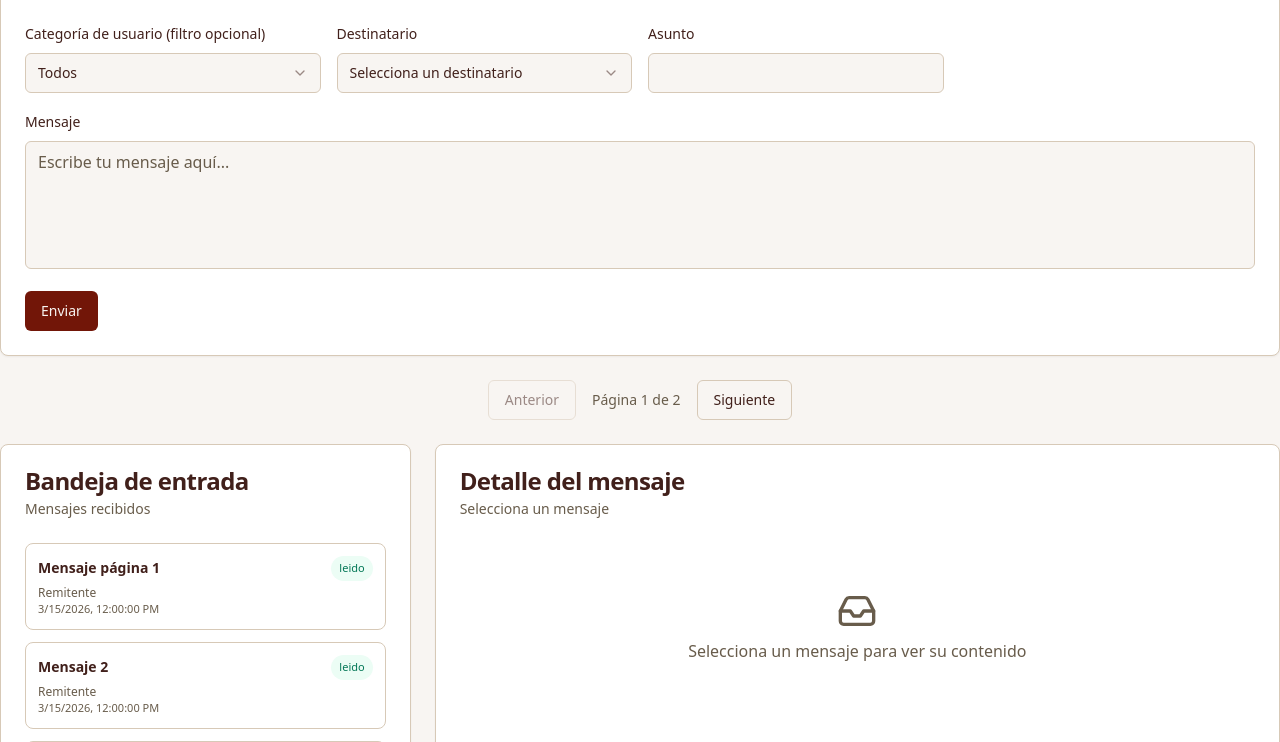
MensajesPage list controls › uses server-side page ranges and disables navigation at both boundaries
(page scrolled)
Check: the text "Mensaje página 1" is shown, box [38,558,160,578]
Check: the button "Anterior" is disabled, box [488,380,576,420]
Click the button "Siguiente": (744, 400) [696,380,792,420]
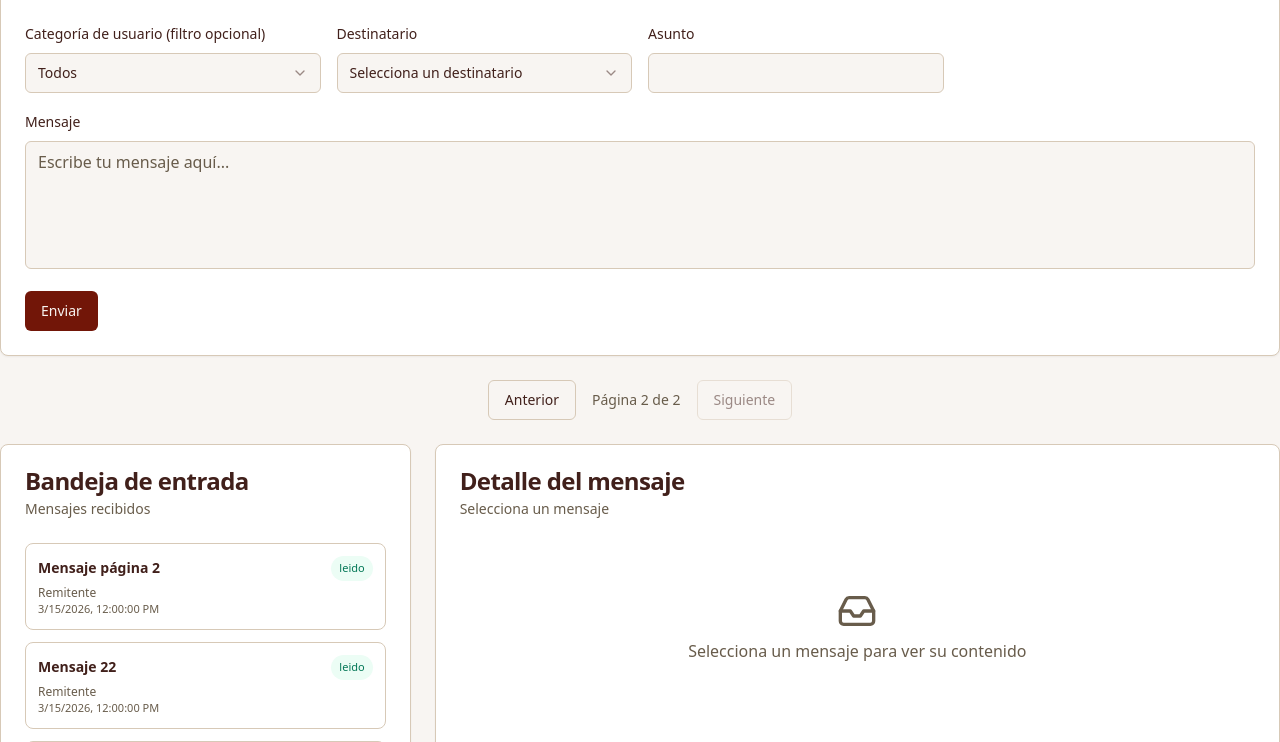
Check: the text "Mensaje página 2" is shown, box [38,558,160,578]
Check: the number of buttons "Mensaje página 2 leido Remitente 3/15/2026, 12:00:00 PM" is 5
Check: the text "Página 2 de 2" is shown, box [592,390,680,410]
